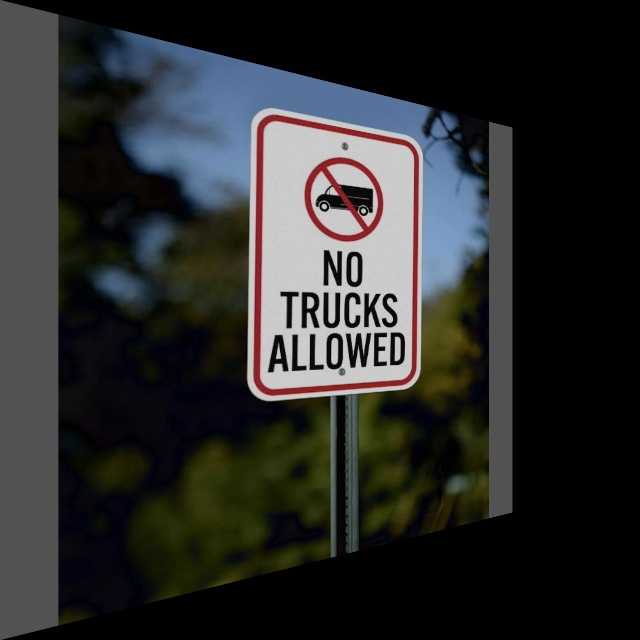Truck_Prohibited: (288, 137, 407, 252)
